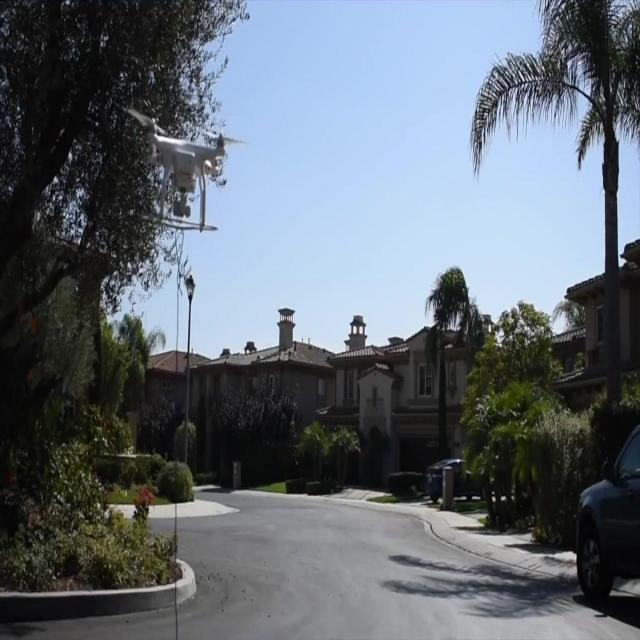UAV: (124, 108, 248, 233)
